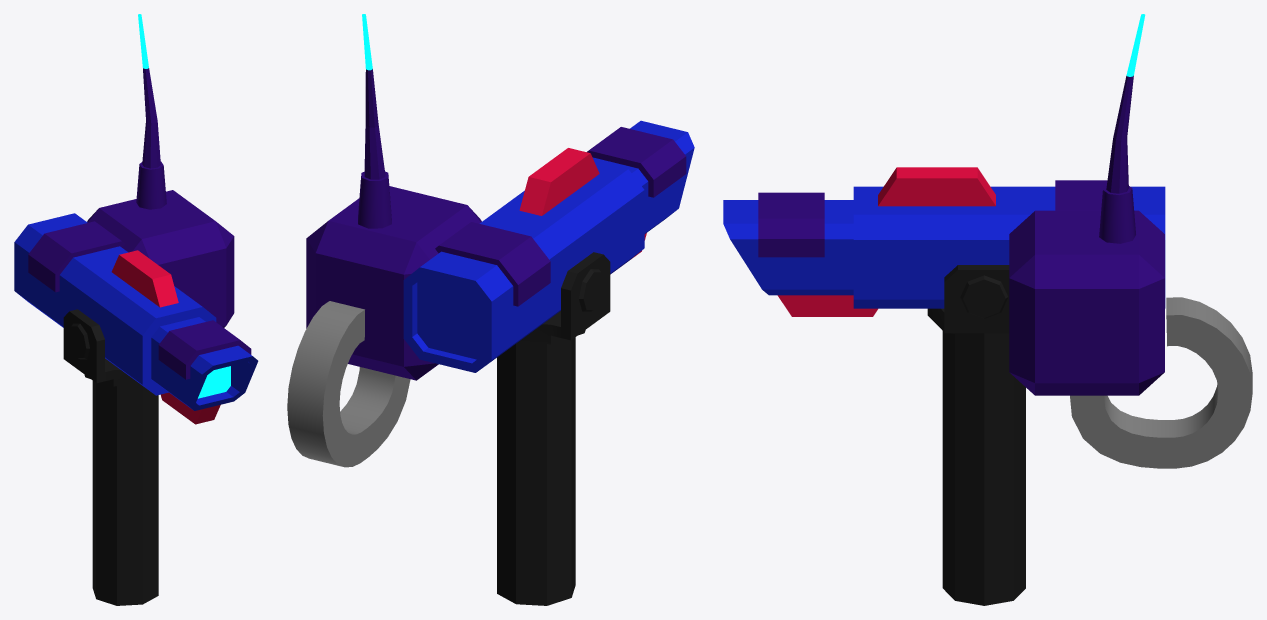
File: Shooter1.fbx
3 renders of one model, left to right at view 1: azimuth 30°, elevation 25°; view 2: azimuth 150°, elevation 25°; view 3: azimuth 270°, elevation 25°, orthographic. The views are drawn at different scales.
Parts seen in each view (by area): view 1: Shooter1; view 2: Shooter1; view 3: Shooter1.
Part boxes in pixels (box(x1,y1,x2,y2)): Shooter1: box(14, 14, 258, 605); Shooter1: box(287, 14, 694, 605); Shooter1: box(723, 14, 1252, 605).
Size of the model in its own units: 48.04 by 132 by 102.
